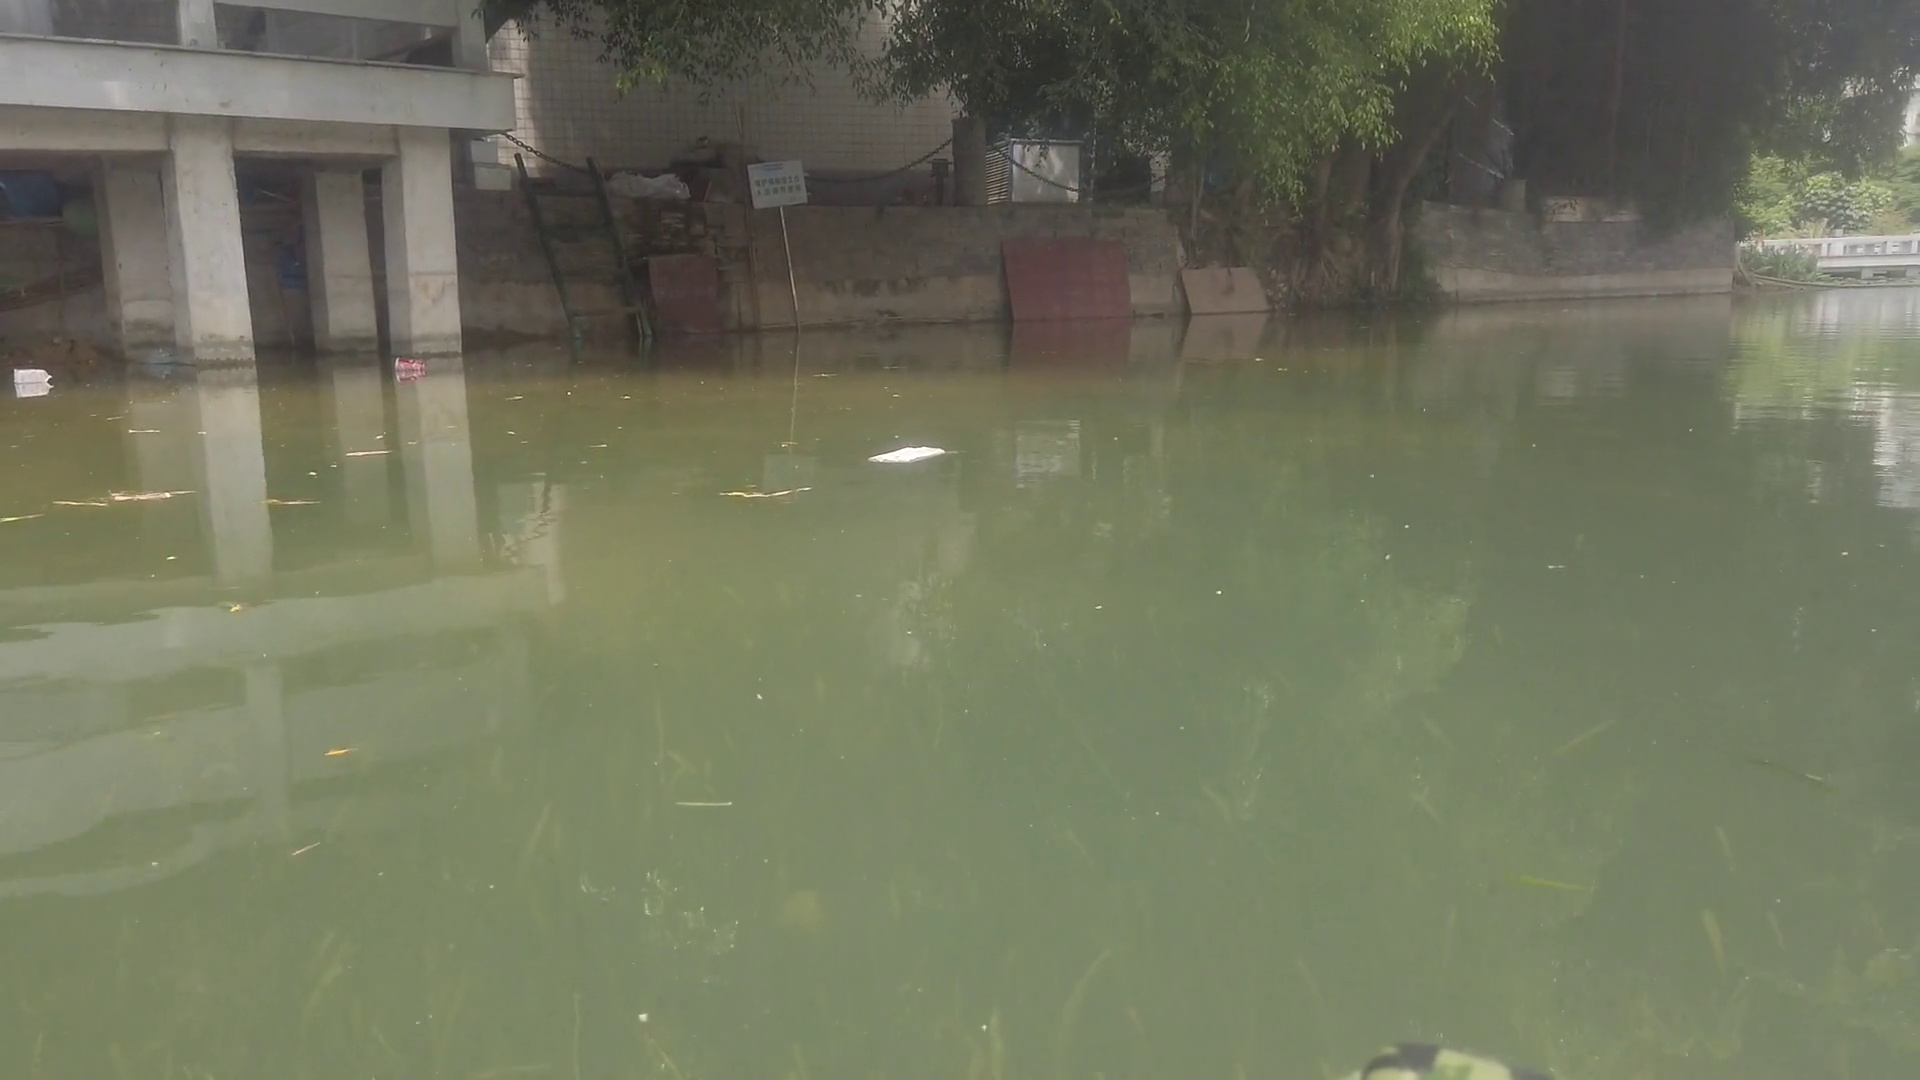bottle: (392, 349, 429, 375)
carton: (15, 365, 53, 384)
paper: (862, 435, 949, 469)
